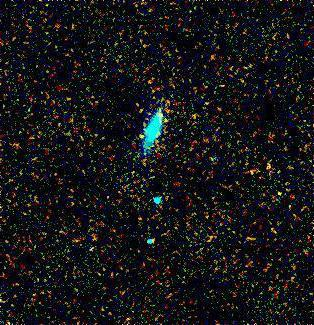star: (127, 121, 157, 151)
